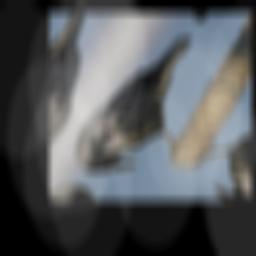Crow: (61, 20, 245, 192)
